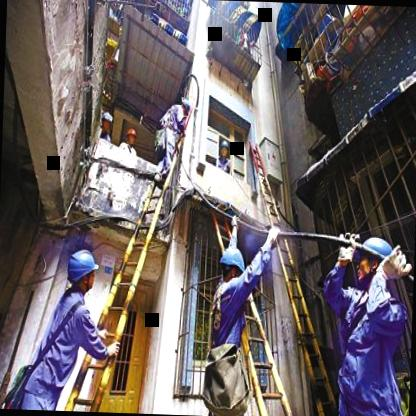helmet: (354, 229, 392, 278), (64, 244, 100, 294), (218, 244, 244, 284), (178, 94, 192, 116), (218, 137, 230, 161), (126, 124, 137, 148)
